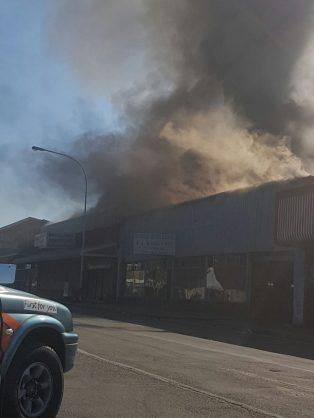smoke: (42, 1, 314, 208)
